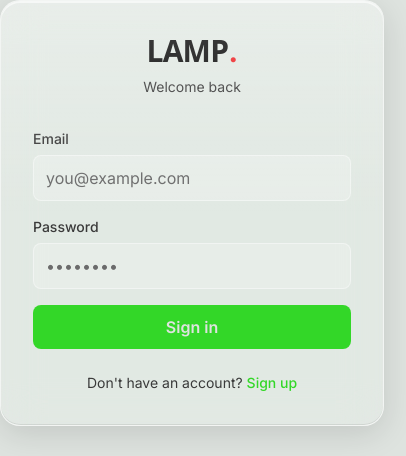
Test: AuthForm › Login mode › shows loading state on submit
In the field labelled "Email": (192, 178) [33, 155, 351, 201], type "test@test.com"
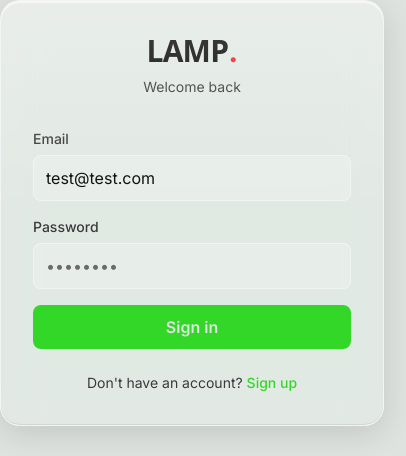
In the password field labelled "Password": (192, 266) [33, 243, 351, 289], type "password123"
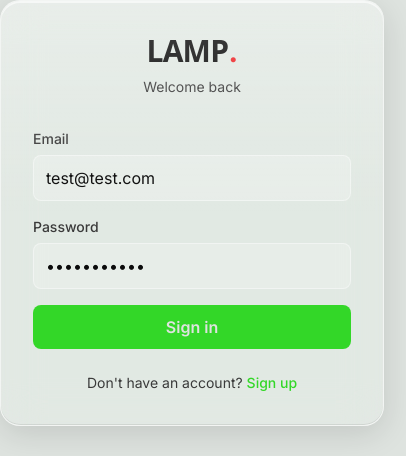
Click the button "Sign in": click(192, 327) [33, 305, 351, 349]
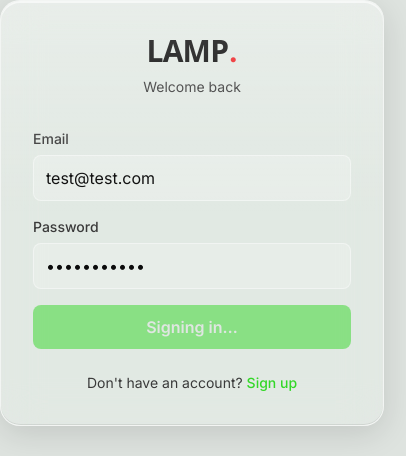
Now the button "Signing in…" is disabled, box [33, 305, 351, 349]
